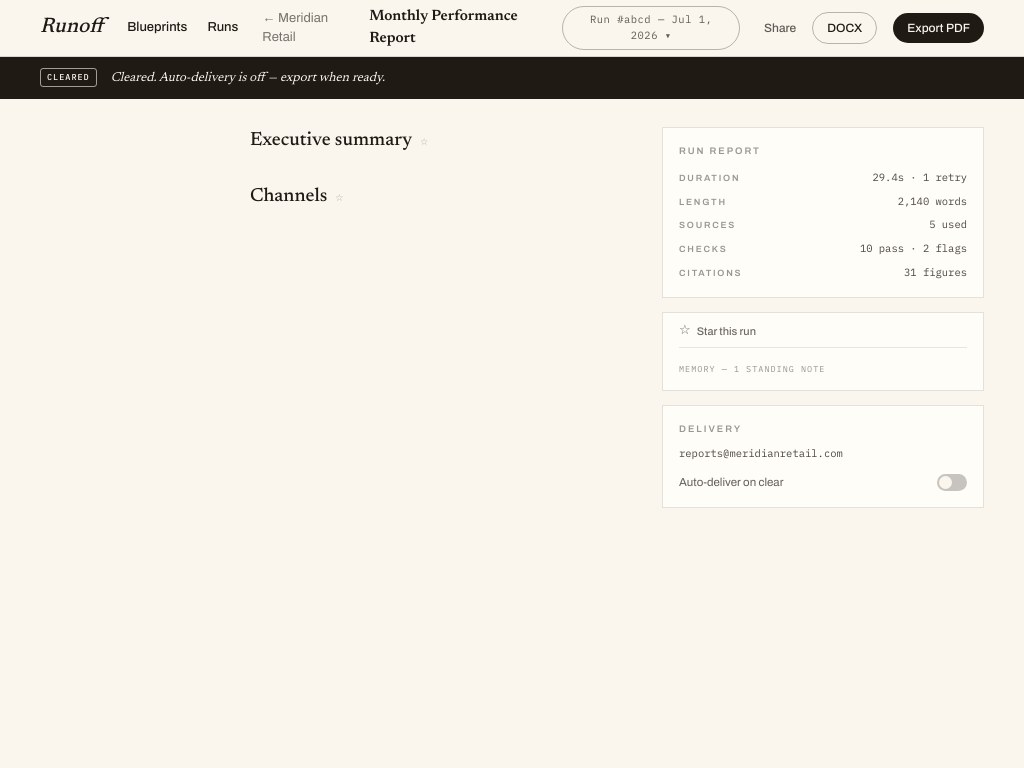
Scenario: Reader — memory line + stars › run report lists the memories the run used, expandable, no-print
Check: the element with test id "memory-line" shows "1 standing note", box [679, 347, 967, 380]
Click the button "Memory — 1 standing note" at (752, 369), box [679, 363, 825, 376]
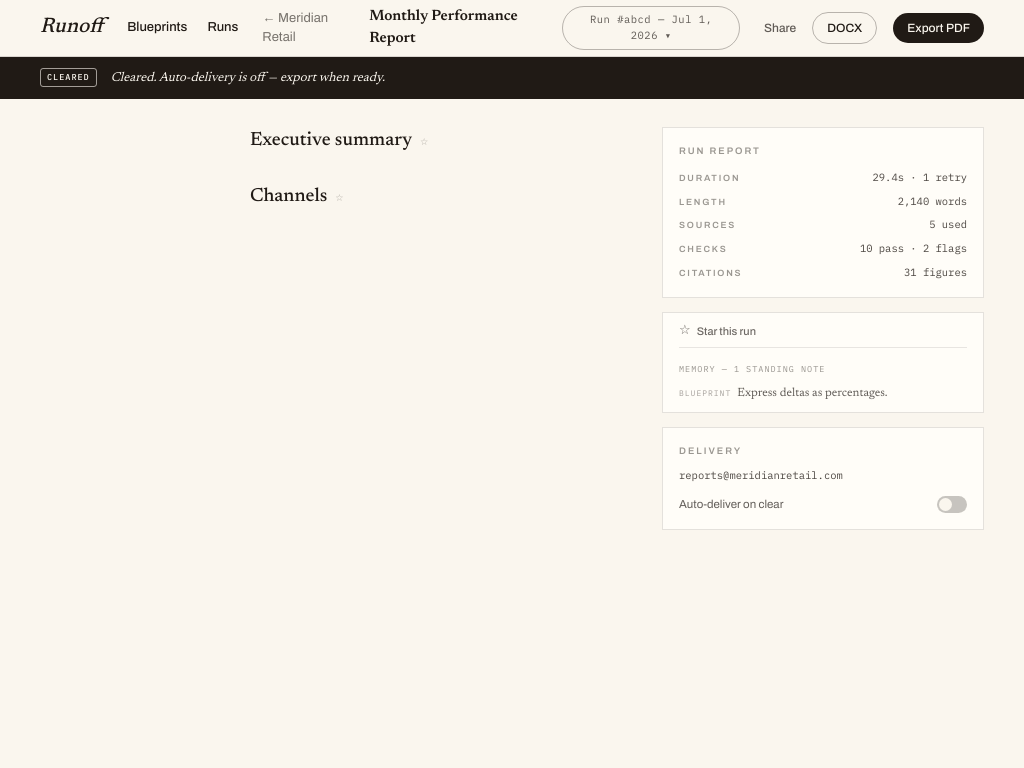
Check: the text "Express deltas as percentages." is shown, box [737, 387, 888, 399]
